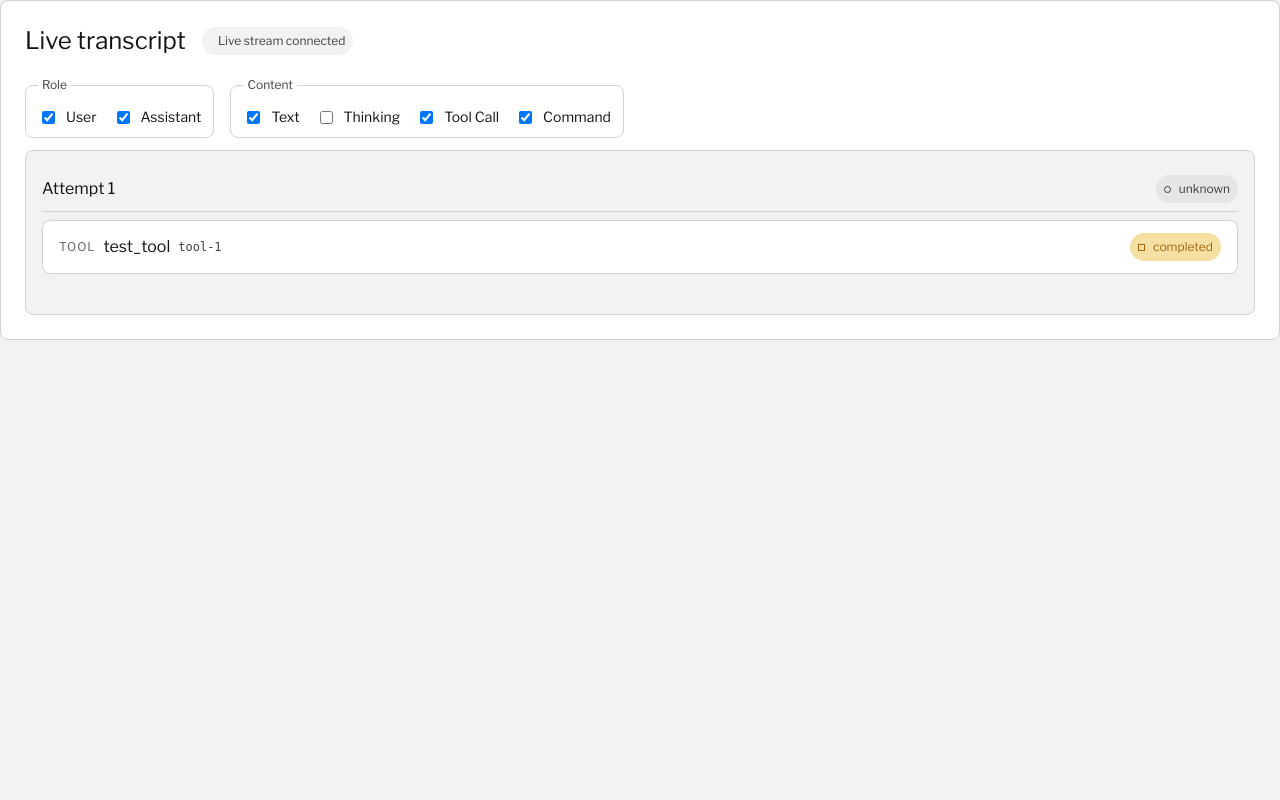
Scenario: JobTranscript component › tool disclosure and payload formatting › renders separate Input and Output sections with indented JSON on expansion
Click the heading "Tool test_tool tool-1 completed": (77, 246) [59, 233, 1221, 261]
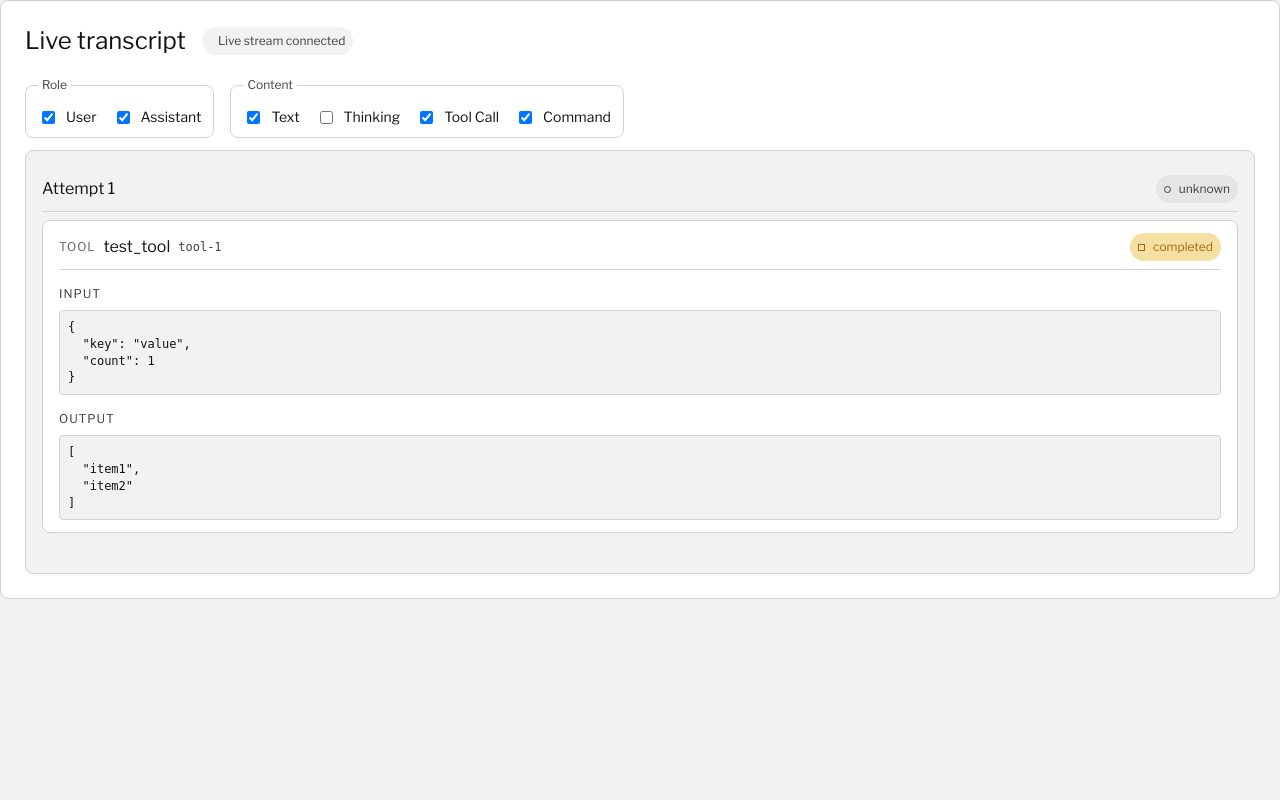
Expected: the text "Input" is shown, [59, 286, 101, 301]
Expected: the text "Output" is shown, [59, 411, 115, 426]
